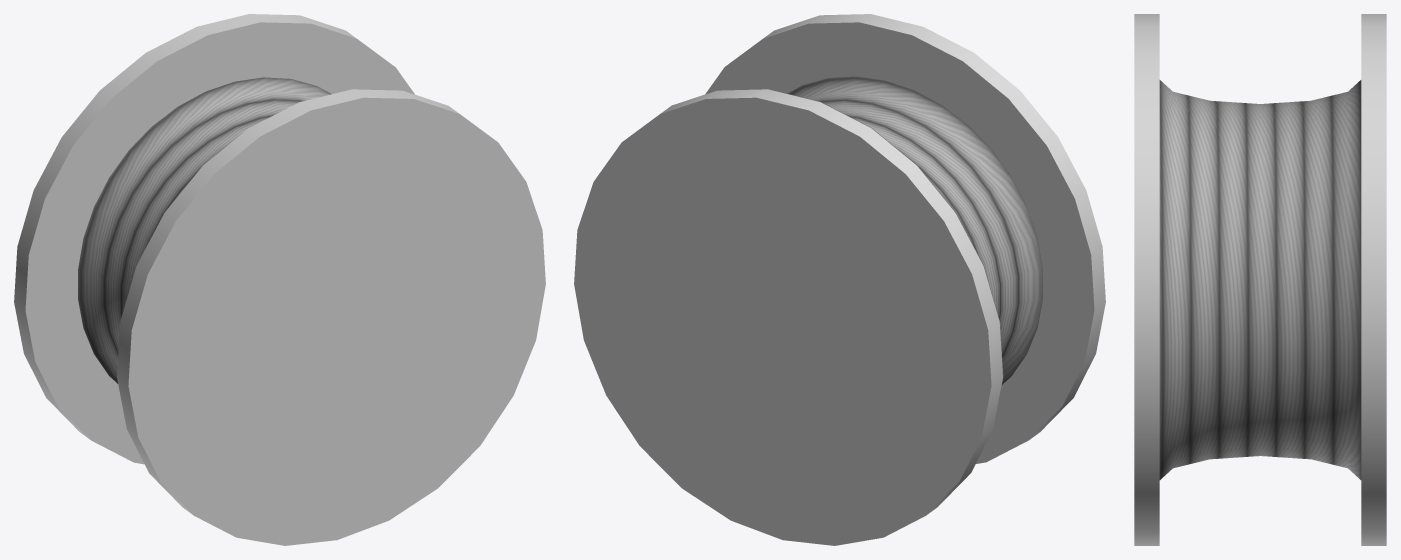
File: Rope O.fbx
The picture shows the model from 3 angles, left to right: view 1: azimuth 30°, elevation 25°; view 2: azimuth 150°, elevation 25°; view 3: azimuth 270°, elevation 25°; orthographic projection. The views are drawn at different scales.
Parts seen in each view (by area): view 1: Group001; view 2: Group001; view 3: Group001.
Boxes of the visible parts, x1,y1,x2,y2 form: Group001: [14, 14, 545, 545]; Group001: [574, 14, 1105, 545]; Group001: [1134, 14, 1386, 545].
Bounding box in the file's own units: 18.93 × 18.89 × 8.98.
